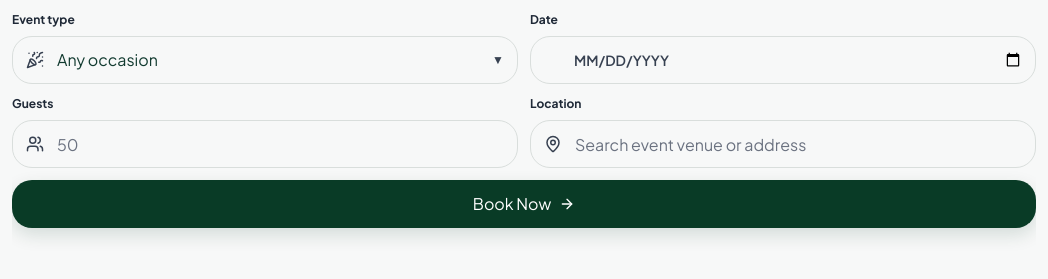
Test: public landing event discovery › rejects a non-positive guest count without creating malformed URL state
In the number field labelled "Guests": (265, 144) [12,120,518,168], type "0"
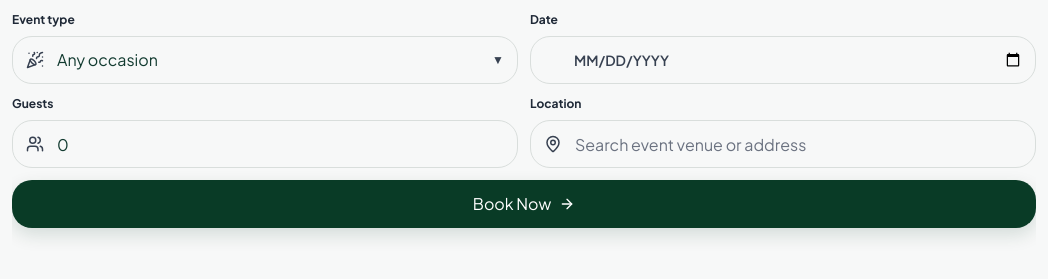
Submit the form "Book Now"
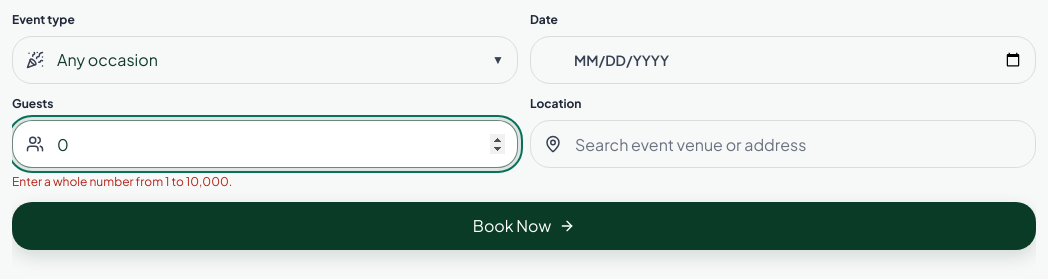
Expected: the text "Enter a whole number from 1 to 10,000." is shown, [12,174,232,189]
